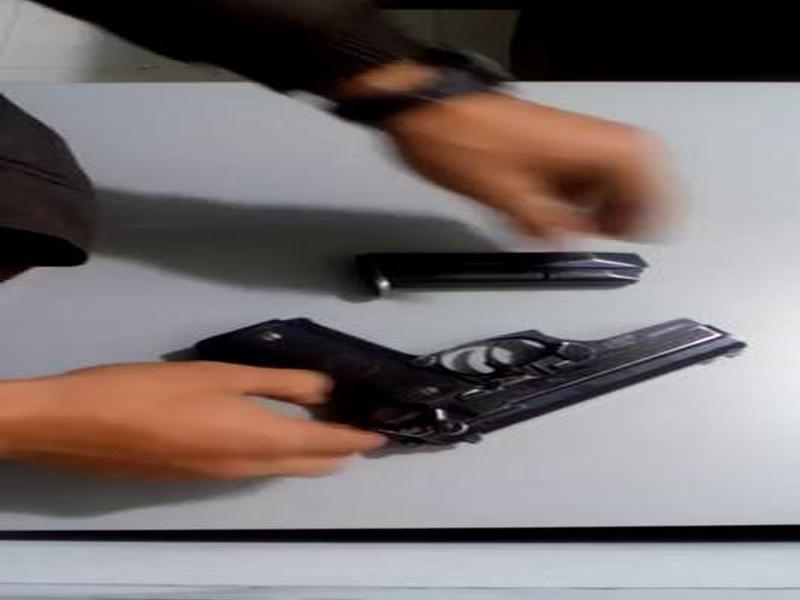Pistola: (186, 304, 760, 470)
